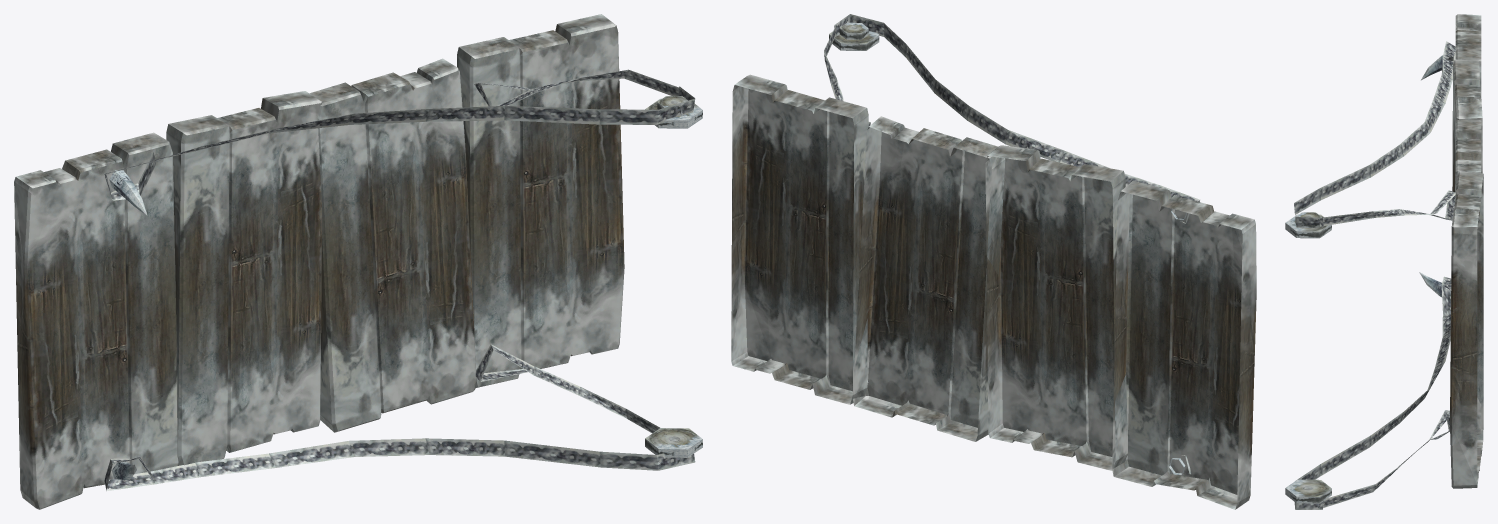
Rendered from zhongbu_fuben_219_men_01.obj.
The picture shows the model from 3 angles, left to right: view 1: azimuth 30°, elevation 25°; view 2: azimuth 150°, elevation 25°; view 3: azimuth 270°, elevation 25°; orthographic projection. The views are drawn at different scales.
Visible parts, largest first — view 1: zhongbu_fuben_219_men_01; view 2: zhongbu_fuben_219_men_01; view 3: zhongbu_fuben_219_men_01.
Boxes of the visible parts, x1,y1,x2,y2 form: zhongbu_fuben_219_men_01: (14, 14, 702, 509); zhongbu_fuben_219_men_01: (731, 14, 1256, 509); zhongbu_fuben_219_men_01: (1285, 14, 1483, 509).
Size of the model in its own units: 774 by 452 by 277.
1 material, 1 textured.
